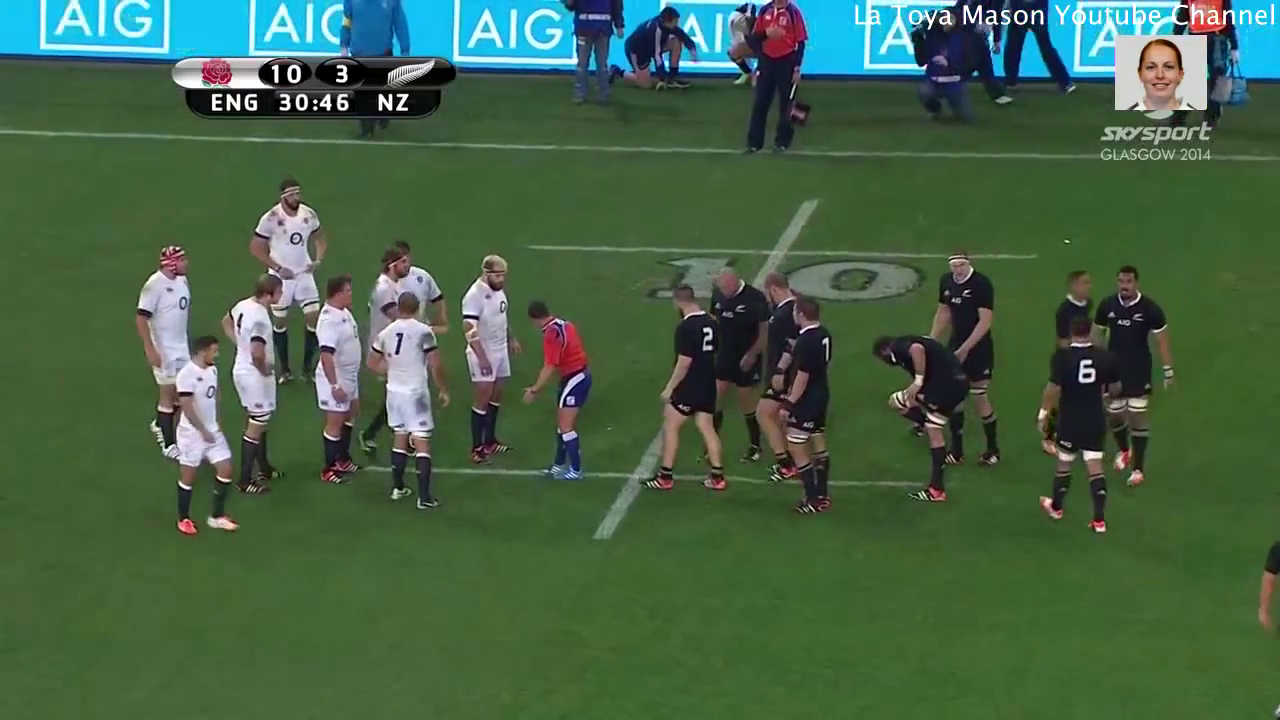10_metre: (521, 189, 1051, 335)
player: (631, 280, 736, 492), (369, 290, 456, 511), (927, 248, 1006, 471), (861, 331, 962, 505), (1038, 320, 1118, 539), (1097, 259, 1175, 483), (224, 274, 298, 496), (170, 335, 247, 542), (301, 273, 372, 492), (779, 297, 848, 518), (516, 300, 595, 484), (133, 239, 198, 454), (459, 249, 518, 464), (703, 263, 765, 459), (252, 175, 329, 303), (757, 276, 797, 476), (363, 239, 446, 313), (1040, 265, 1107, 343)
